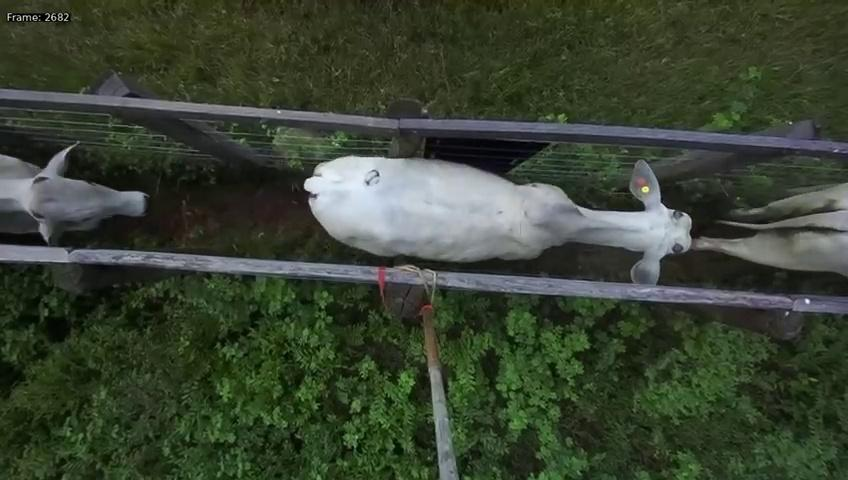cattle: (298, 139, 698, 284), (0, 141, 148, 247)
